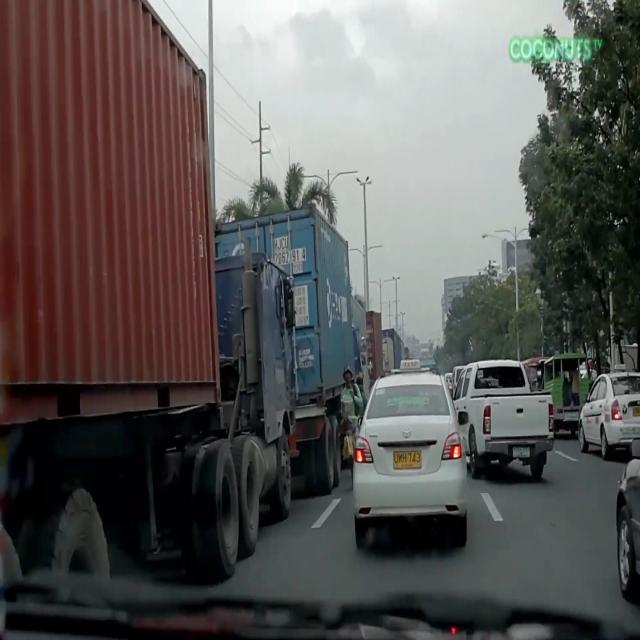jeepney: (544, 354, 590, 439)
truck: (0, 0, 296, 579), (215, 203, 368, 494), (0, 0, 150, 290), (368, 308, 390, 386)
